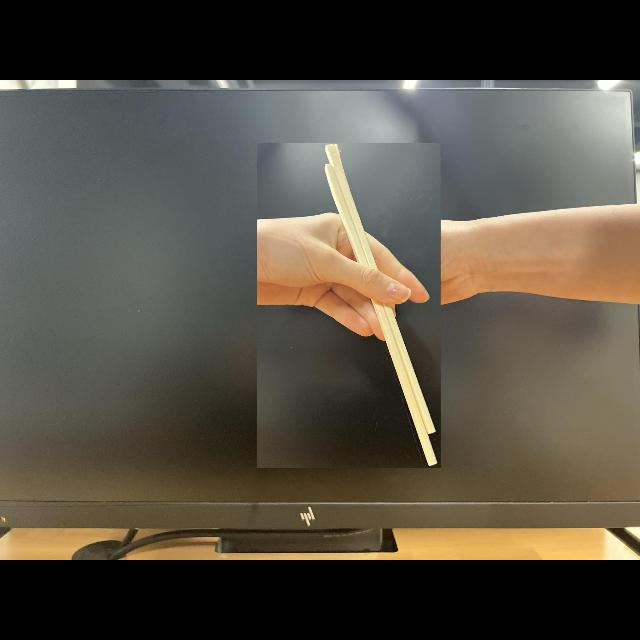stick: (258, 144, 440, 468)
